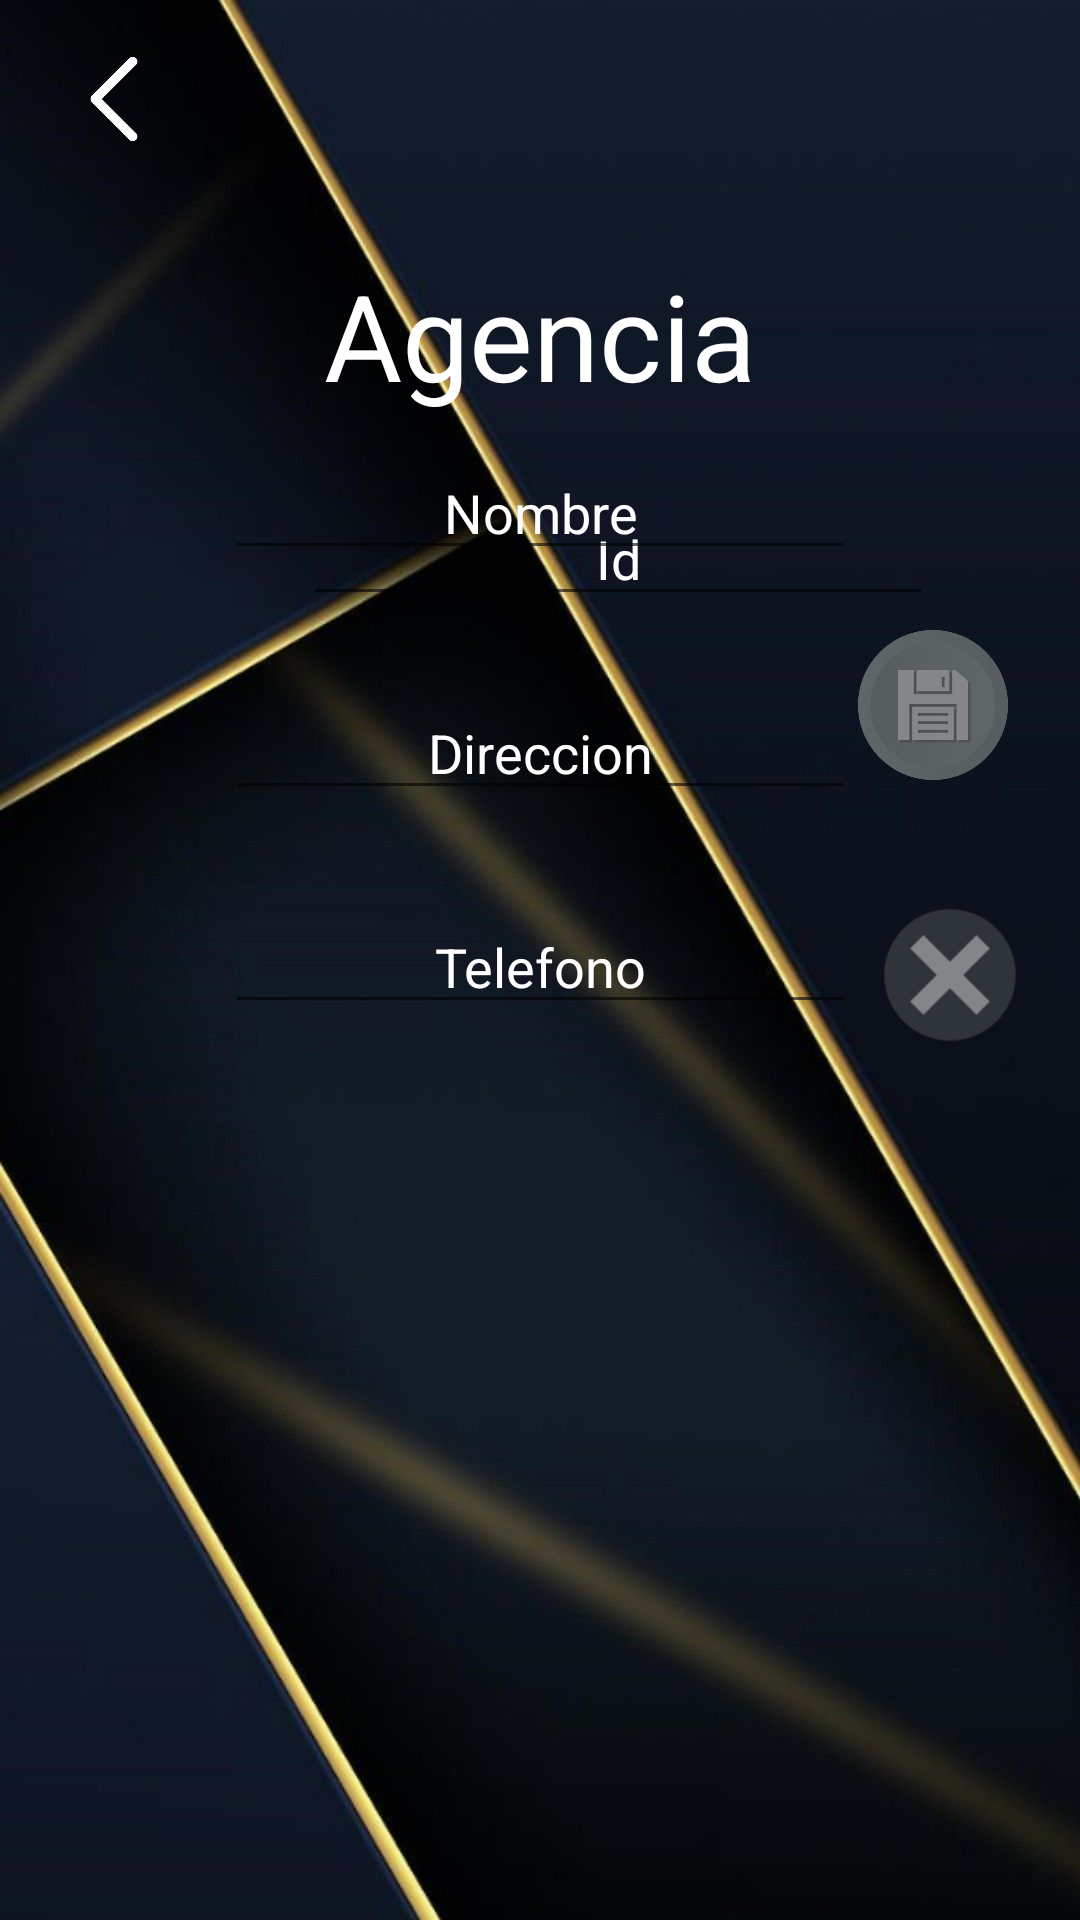

Icons on this 1080 × 1920 Android screen, each with its box as (x1, y1, x2, y2):
eliminar: (885, 910, 1015, 1040)
guardar: (858, 630, 1008, 780)
